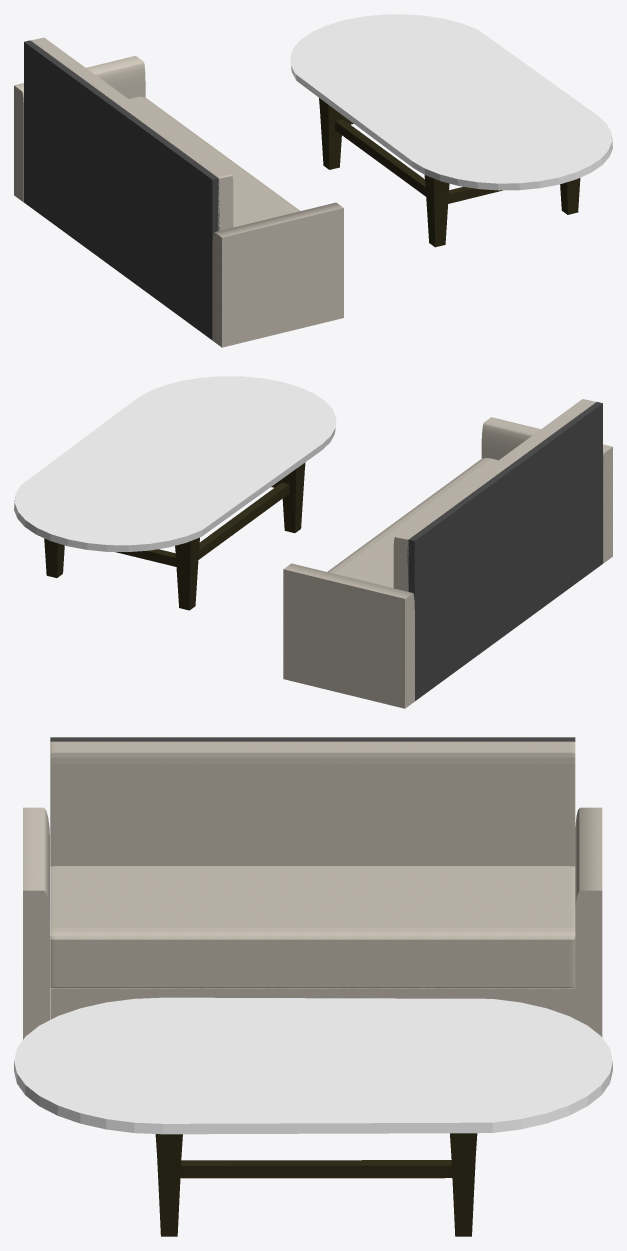
Rendered from sillon.fbx.
3 renders of one model, top to bottom at view 1: azimuth 30°, elevation 25°; view 2: azimuth 150°, elevation 25°; view 3: azimuth 270°, elevation 25°, orthographic. The views are drawn at different scales.
Visible parts, largest first — view 1: Cube.026, Cube.004; view 2: Cube.026, Cube.004; view 3: Cube.026, Cube.004.
Part boxes in pixels (bbox=[...]): Cube.026: bbox=[14, 37, 343, 347]; Cube.004: bbox=[290, 14, 612, 247]; Cube.026: bbox=[283, 399, 612, 708]; Cube.004: bbox=[14, 376, 336, 610]; Cube.026: bbox=[23, 737, 602, 1039]; Cube.004: bbox=[14, 997, 612, 1236].
Size of the model in its own units: 813 by 709 by 292.
4 materials, 2 textured.
